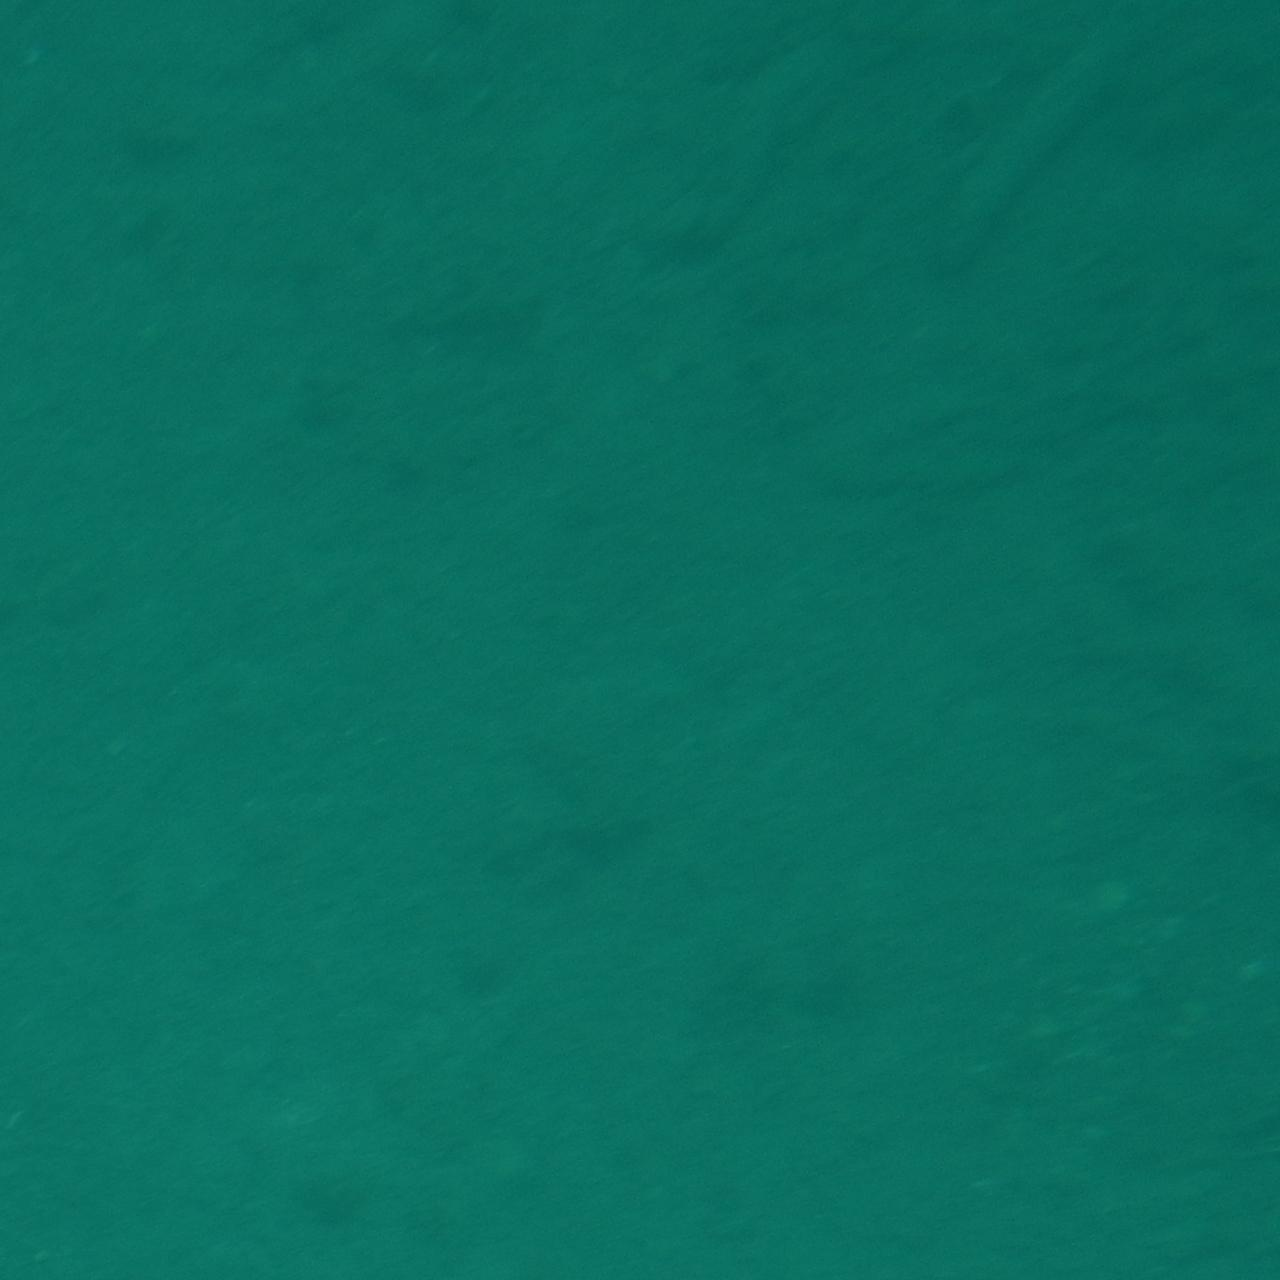Holothuria tubulosa: (888, 2, 1180, 306)
